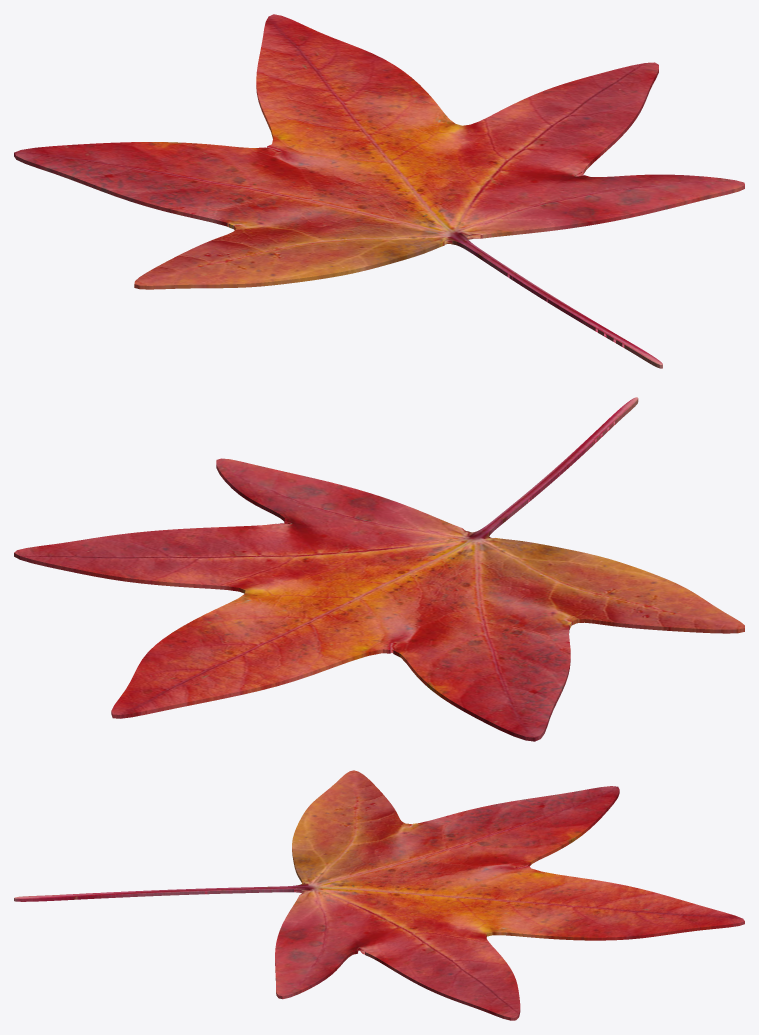
File: leaf_2.fbx
The picture shows the model from 3 angles, top to bottom: view 1: azimuth 30°, elevation 25°; view 2: azimuth 150°, elevation 25°; view 3: azimuth 270°, elevation 25°; orthographic projection. The views are drawn at different scales.
Parts seen in each view (by area): view 1: m_waterDrop_leaf_02; view 2: m_waterDrop_leaf_02; view 3: m_waterDrop_leaf_02.
Part boxes in pixels (x1=…): m_waterDrop_leaf_02: x1=14, y1=14, x2=744, y2=368; m_waterDrop_leaf_02: x1=14, y1=397, x2=744, y2=741; m_waterDrop_leaf_02: x1=14, y1=770, x2=744, y2=1020.
Bounding box in the file's own units: 175 × 2.4 × 222.
